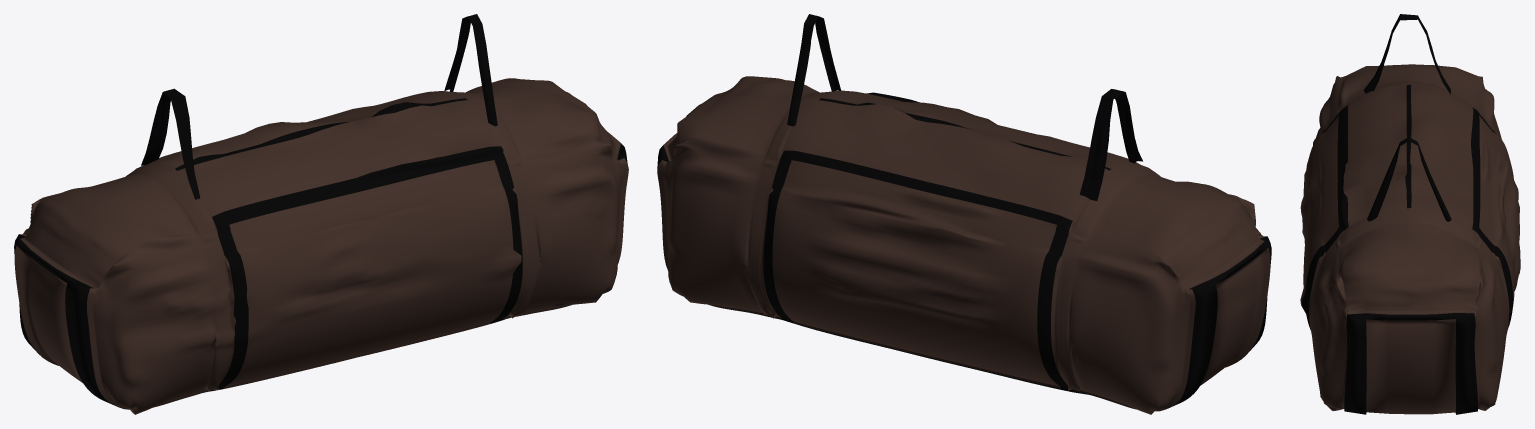
Rendered from bag2.fbx.
3 renders of one model, left to right at view 1: azimuth 30°, elevation 25°; view 2: azimuth 150°, elevation 25°; view 3: azimuth 270°, elevation 25°, orthographic. The views are drawn at different scales.
Visible parts, largest first — view 1: Cube; view 2: Cube; view 3: Cube.
Part boxes in pixels (left/top/right/bottom): Cube: left=14, top=14, right=628, bottom=414; Cube: left=657, top=14, right=1271, bottom=414; Cube: left=1300, top=14, right=1520, bottom=414.
Size of the model in its own units: 732 by 364 by 286.
